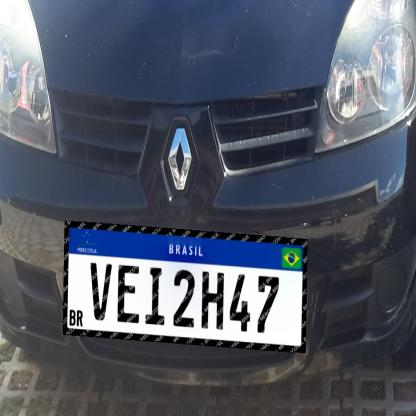PlacaM: (62, 221, 308, 353)
